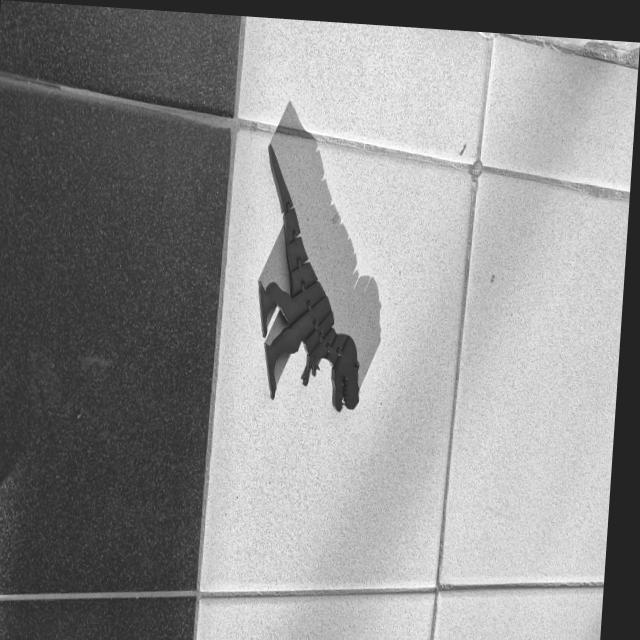dino: (248, 142, 375, 415)
